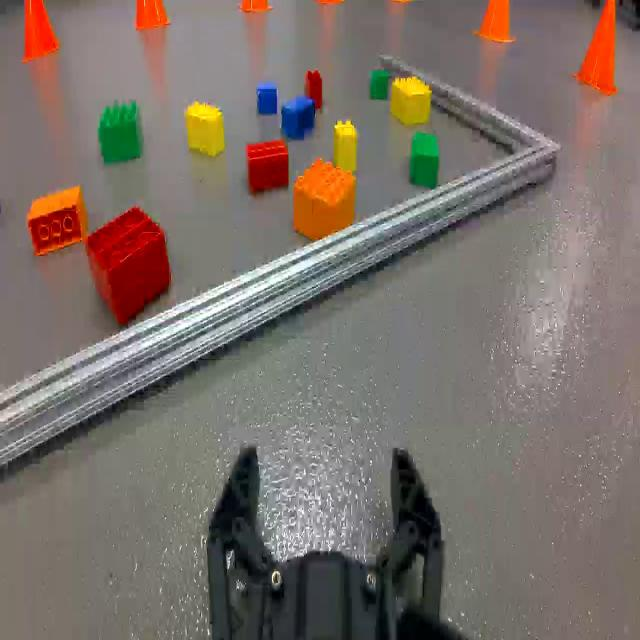block: (188, 100, 224, 156), (391, 78, 430, 127), (335, 121, 356, 175)
blue: (246, 140, 287, 188), (256, 84, 277, 115)
cone: (575, 0, 618, 96), (22, 0, 60, 63), (474, 0, 514, 47), (134, 0, 170, 32), (238, 0, 274, 18), (319, 0, 347, 2)
green: (99, 100, 145, 168), (411, 130, 439, 189), (369, 71, 389, 98)
metal barrier: (0, 56, 558, 474)
orange: (295, 155, 355, 237), (28, 182, 88, 256), (283, 97, 316, 141)
red goal: (88, 206, 169, 318), (305, 70, 324, 108)
